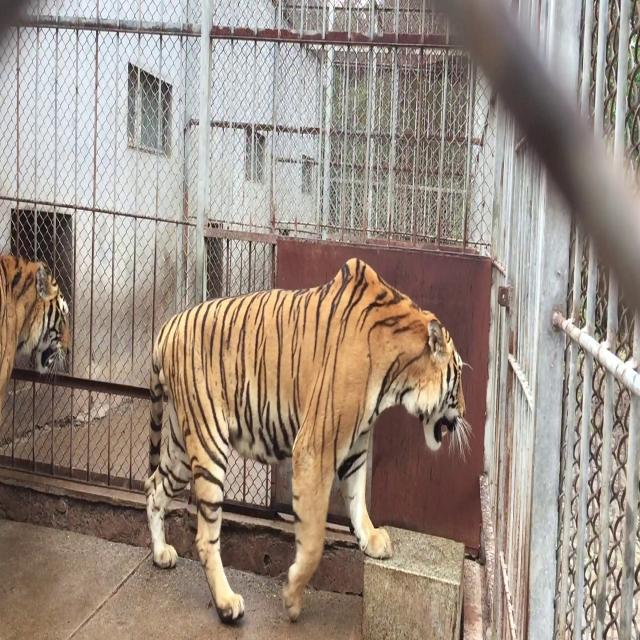Tiger: (119, 220, 498, 640), (0, 214, 98, 429)
